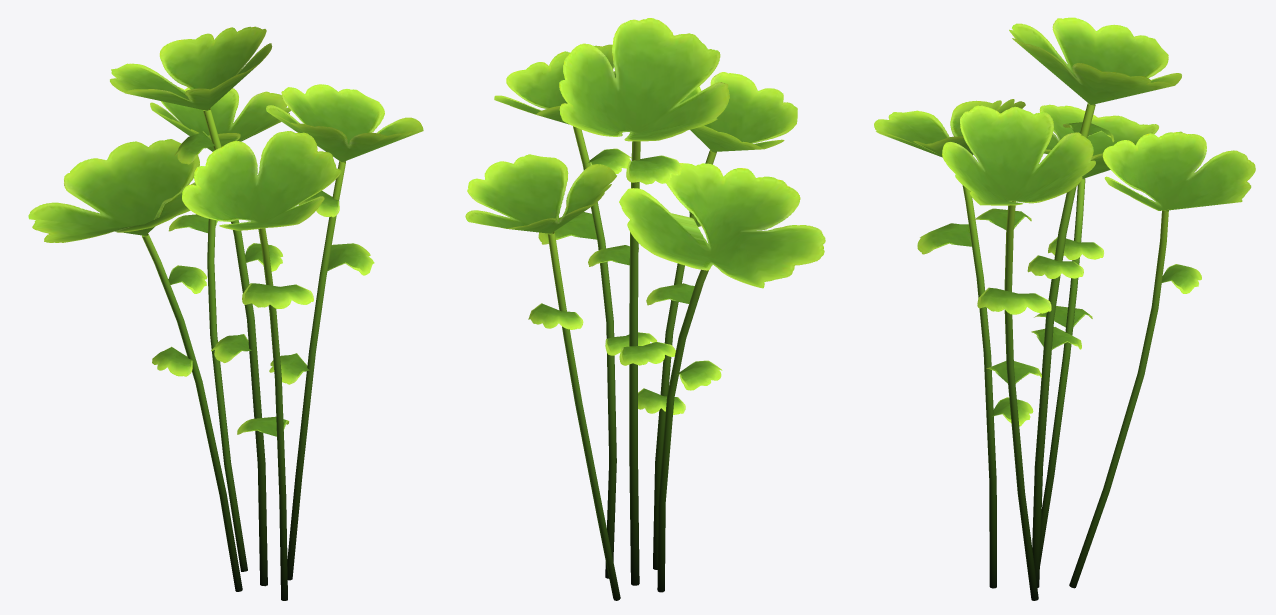
File: Clover_2.gltf
3 renders of one model, left to right at view 1: azimuth 30°, elevation 25°; view 2: azimuth 150°, elevation 25°; view 3: azimuth 270°, elevation 25°, orthographic. The views are drawn at different scales.
Visible parts, largest first — view 1: Clover_2; view 2: Clover_2; view 3: Clover_2.
Part boxes in pixels (bbox=[...]): Clover_2: bbox=[28, 26, 423, 600]; Clover_2: bbox=[465, 18, 825, 600]; Clover_2: bbox=[874, 17, 1255, 600].
Size of the model in its own units: 0.8511 by 1.26 by 0.8366.
1 material, 1 textured.
